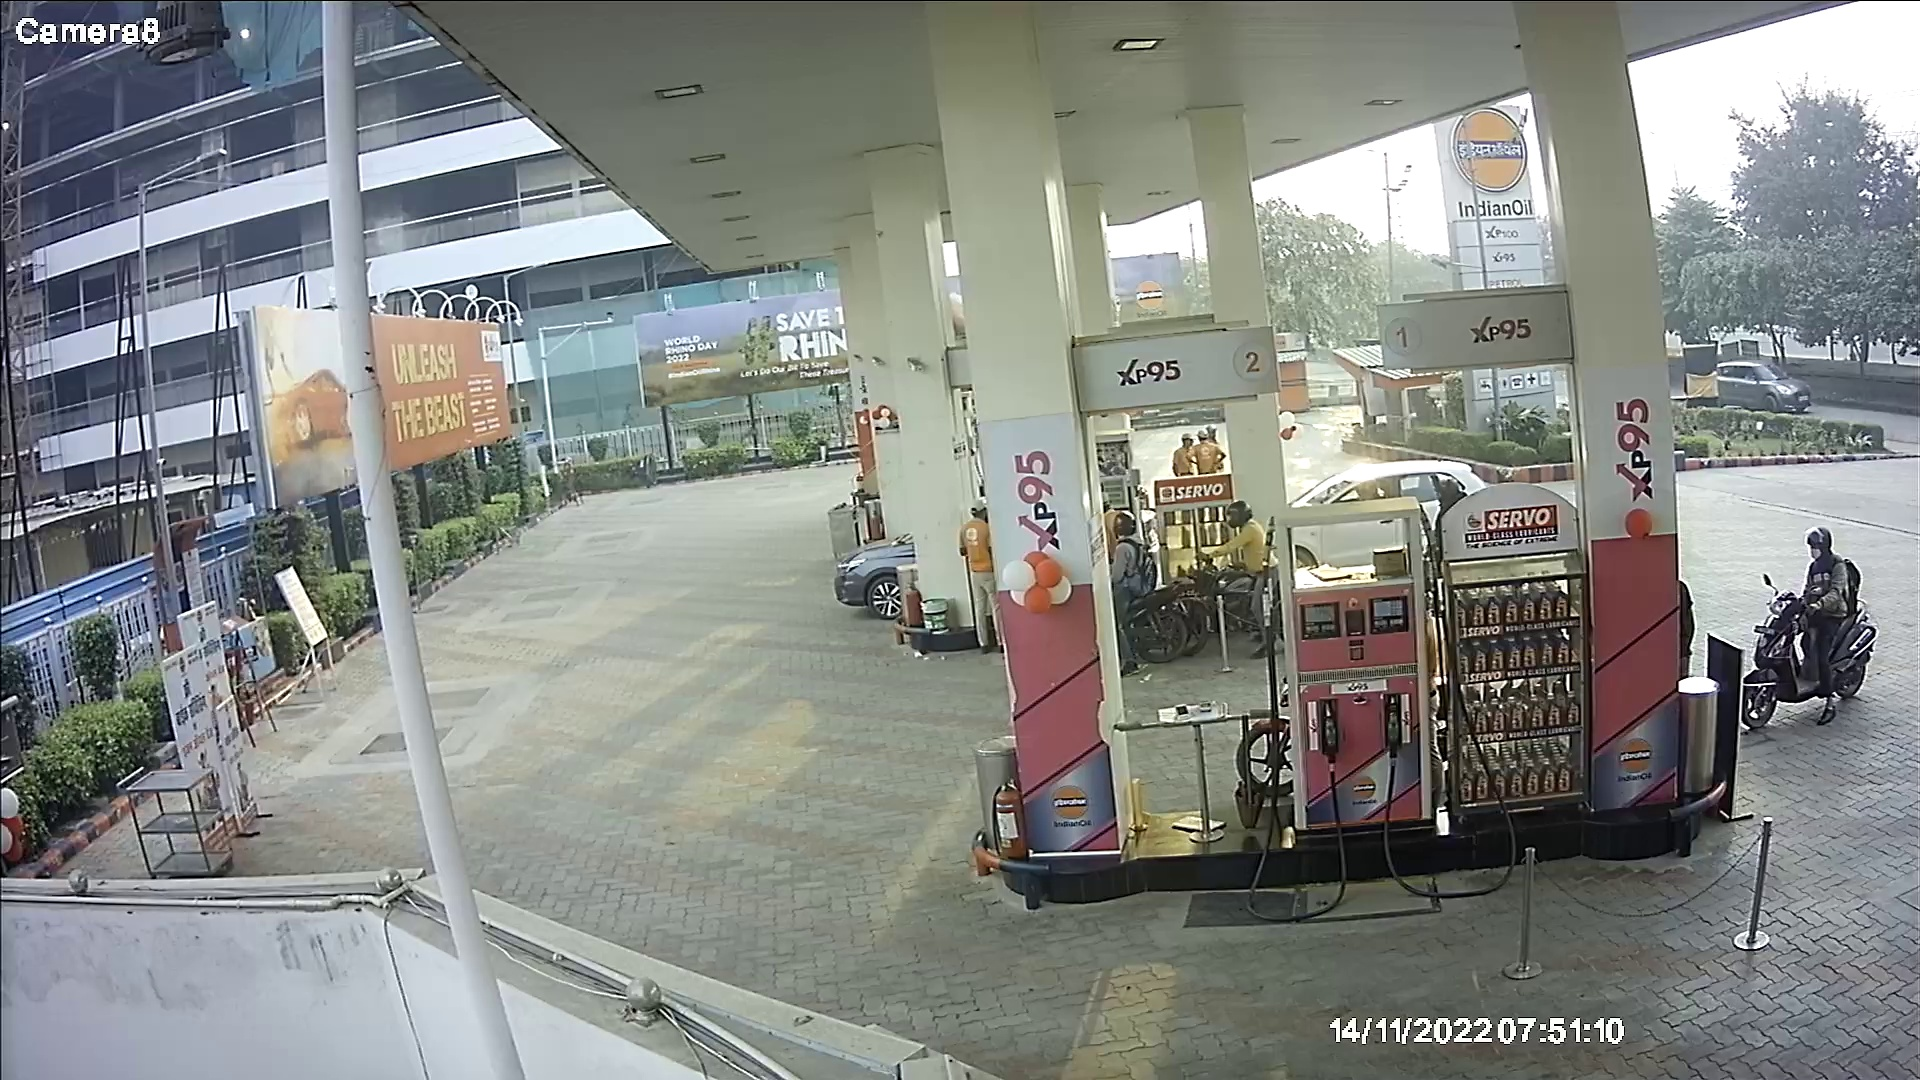Bike: (1746, 512, 1883, 725), (1168, 493, 1286, 665), (1098, 502, 1195, 683)
Car: (1265, 418, 1547, 658), (823, 518, 934, 626), (1713, 344, 1818, 419)
Others: (953, 491, 1006, 661), (1168, 419, 1232, 481)
